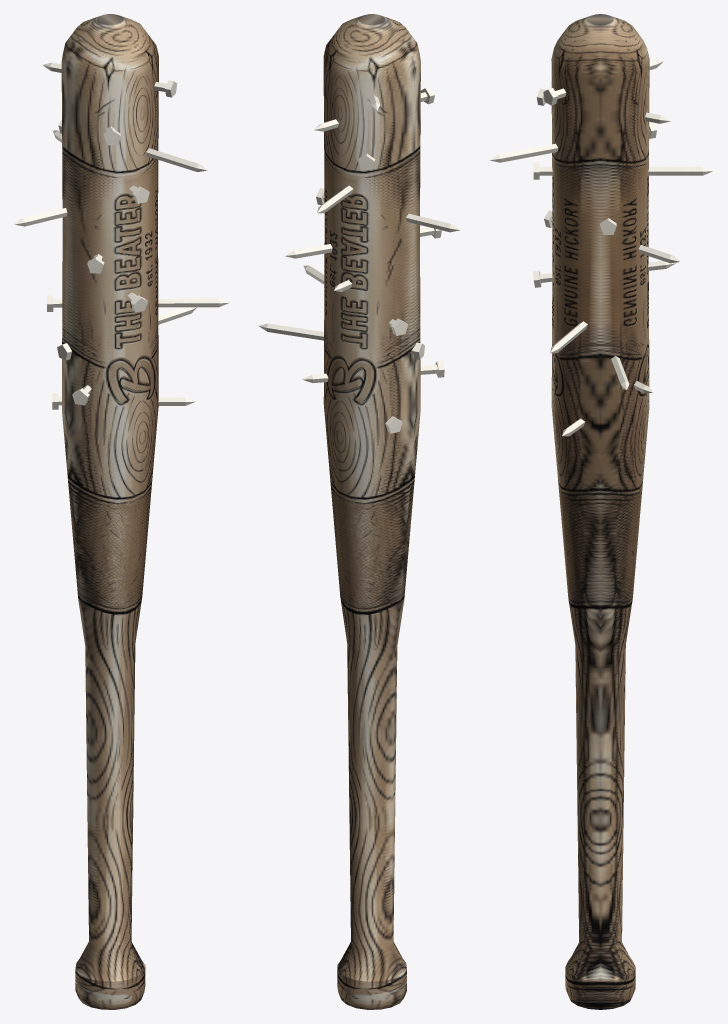
File: Baseball Bat.fbx
3 renders of one model, left to right at view 1: azimuth 30°, elevation 25°; view 2: azimuth 150°, elevation 25°; view 3: azimuth 270°, elevation 25°, orthographic.
Parts seen in each view (by area): view 1: Nailed Bat; view 2: Nailed Bat; view 3: Nailed Bat.
Boxes of the visible parts, x1=… form: Nailed Bat: x1=14, y1=14, x2=229, y2=1009; Nailed Bat: x1=259, y1=14, x2=459, y2=1009; Nailed Bat: x1=489, y1=14, x2=713, y2=1009.
Size of the model in its own units: 74.66 by 75.17 by 361.
1 material, 1 textured.
